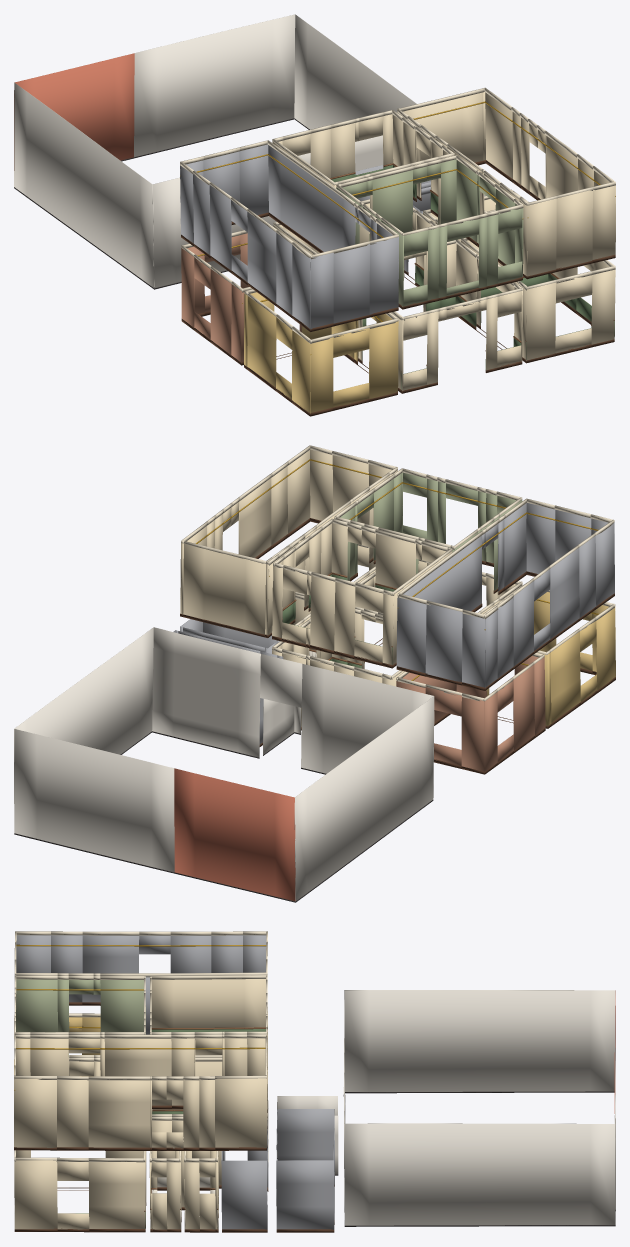
Rendered from Museum_Int_Wall_Finish.fbx.
3 renders of one model, top to bottom at view 1: azimuth 30°, elevation 25°; view 2: azimuth 150°, elevation 25°; view 3: azimuth 270°, elevation 25°, orthographic. The views are drawn at different scales.
Visible parts, largest first — view 1: Int_UF_WallFinish, Int_Wing_WallFinish, Int_GF_WallFinish; view 2: Int_Wing_WallFinish, Int_UF_WallFinish, Int_GF_WallFinish; view 3: Int_Wing_WallFinish, Int_UF_WallFinish, Int_GF_WallFinish.
Part boxes in pixels (bbox=[...]): Int_UF_WallFinish: bbox=[180, 87, 615, 331]; Int_Wing_WallFinish: bbox=[14, 14, 416, 289]; Int_GF_WallFinish: bbox=[181, 165, 615, 416]; Int_Wing_WallFinish: bbox=[14, 627, 434, 902]; Int_UF_WallFinish: bbox=[180, 445, 614, 690]; Int_GF_WallFinish: bbox=[173, 530, 615, 774]; Int_Wing_WallFinish: bbox=[277, 990, 615, 1226]; Int_UF_WallFinish: bbox=[14, 931, 267, 1150]; Int_GF_WallFinish: bbox=[14, 1013, 334, 1232].
Bounding box in the file's own units: 15.28 × 7.63 × 26.66.
